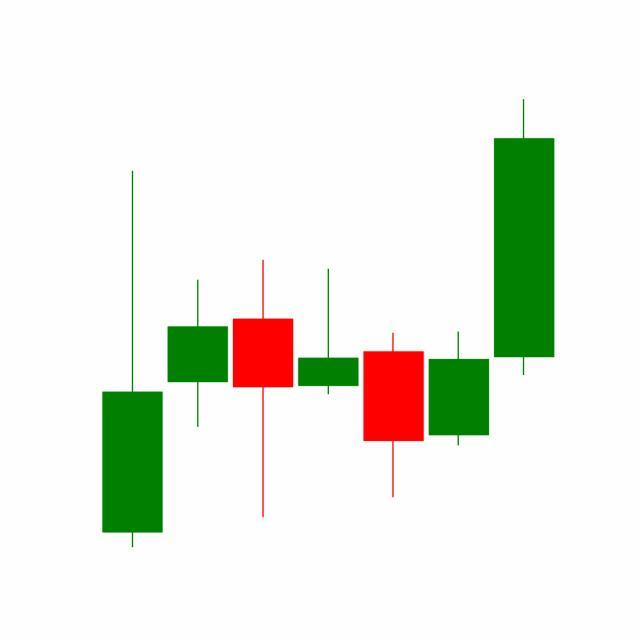Hikkake Pattern: (229, 100, 555, 523)
